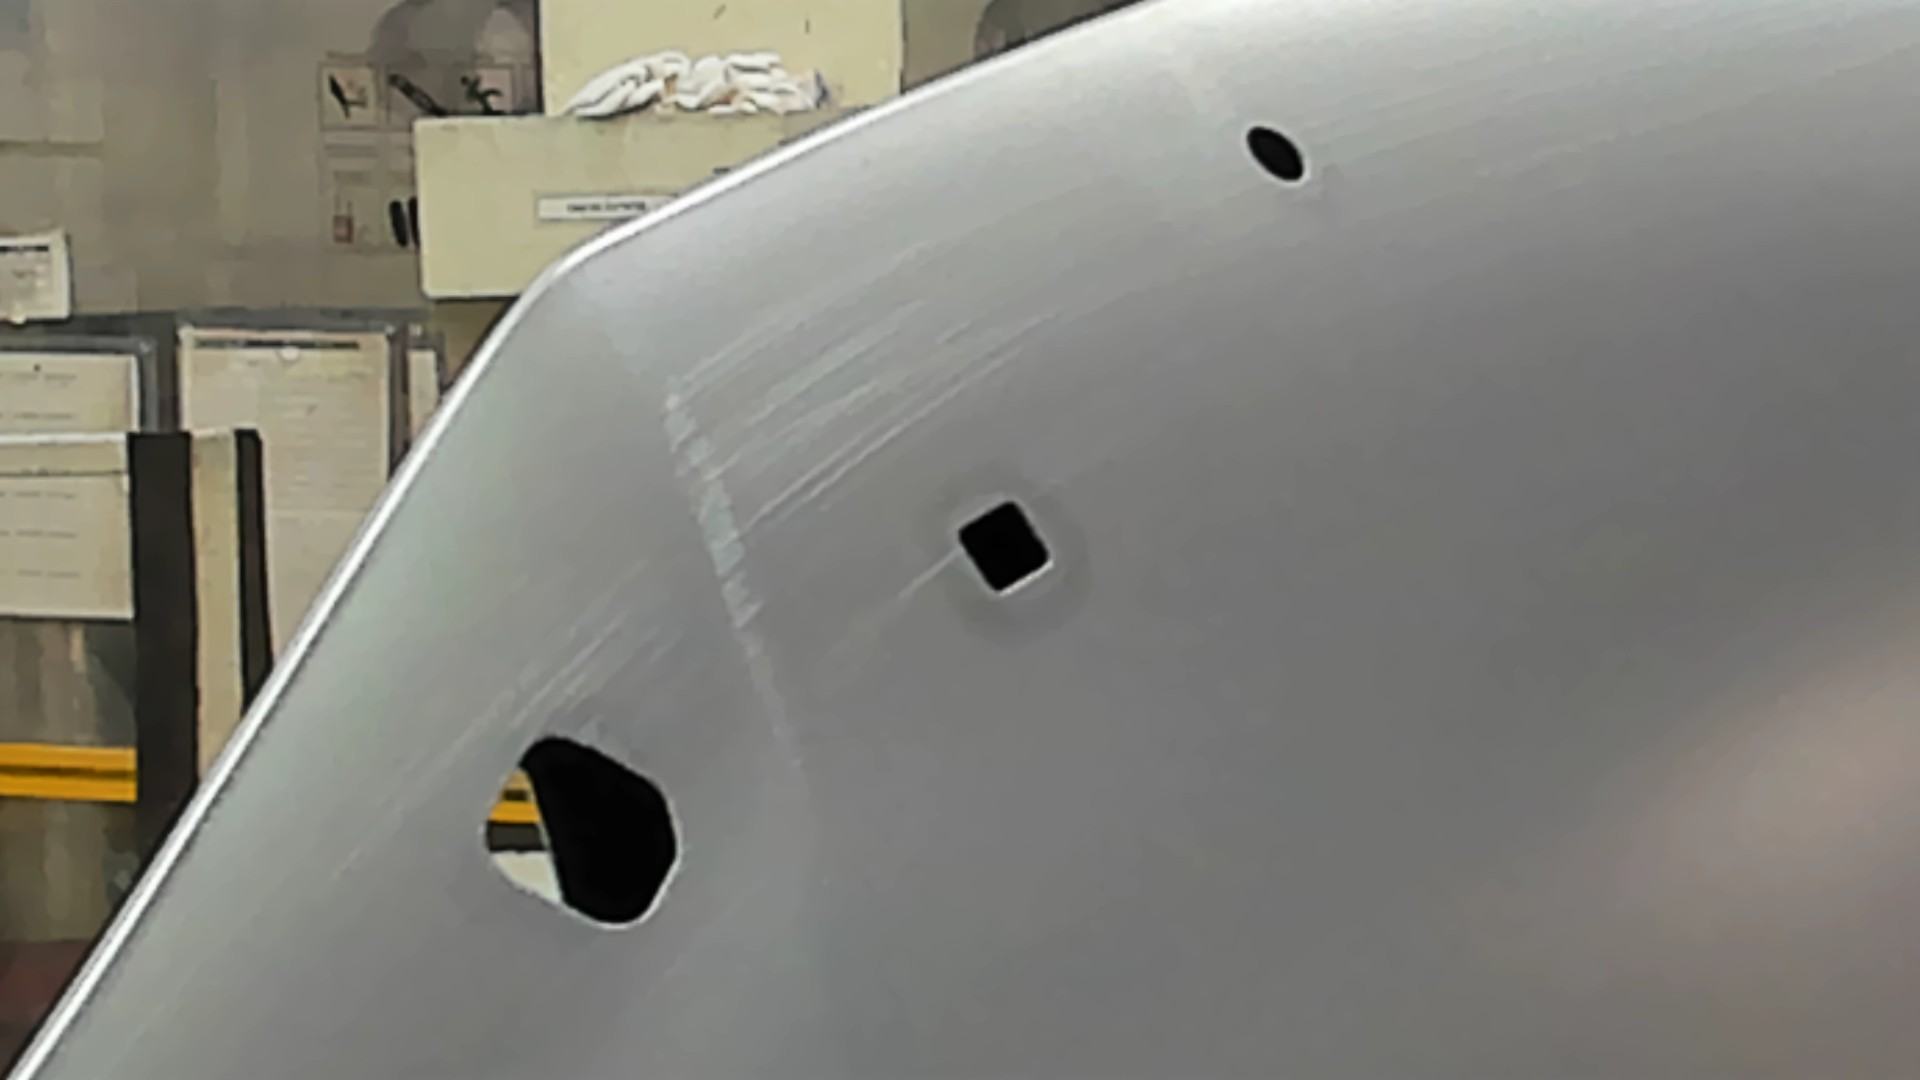capo: (1065, 185, 1920, 1080)
chico: (1238, 120, 1309, 191)
grande: (469, 727, 687, 938)
mediano: (945, 492, 1059, 599)
